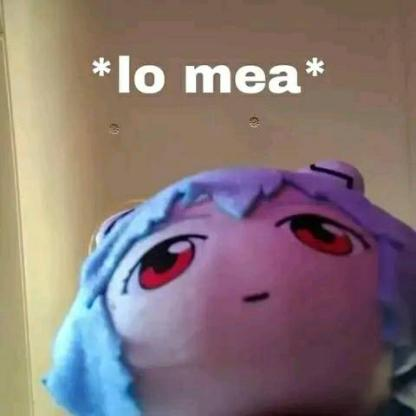rei-plush: (47, 168, 415, 416)
